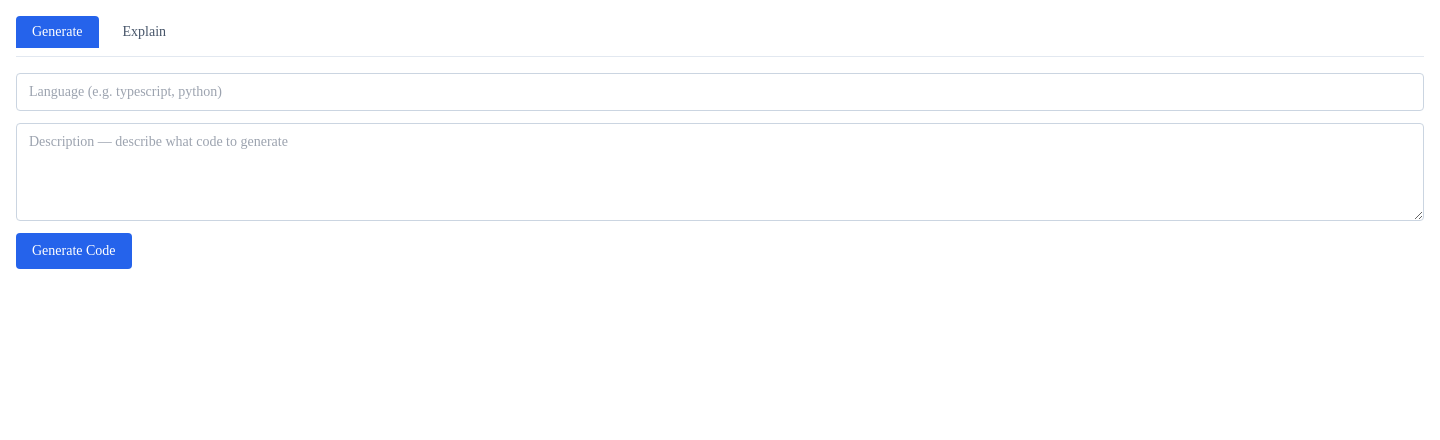
it: CodeAssistant explain flow › displays the explanation after submission
Click the button "Explain" at point(144, 32), box [106, 16, 182, 48]
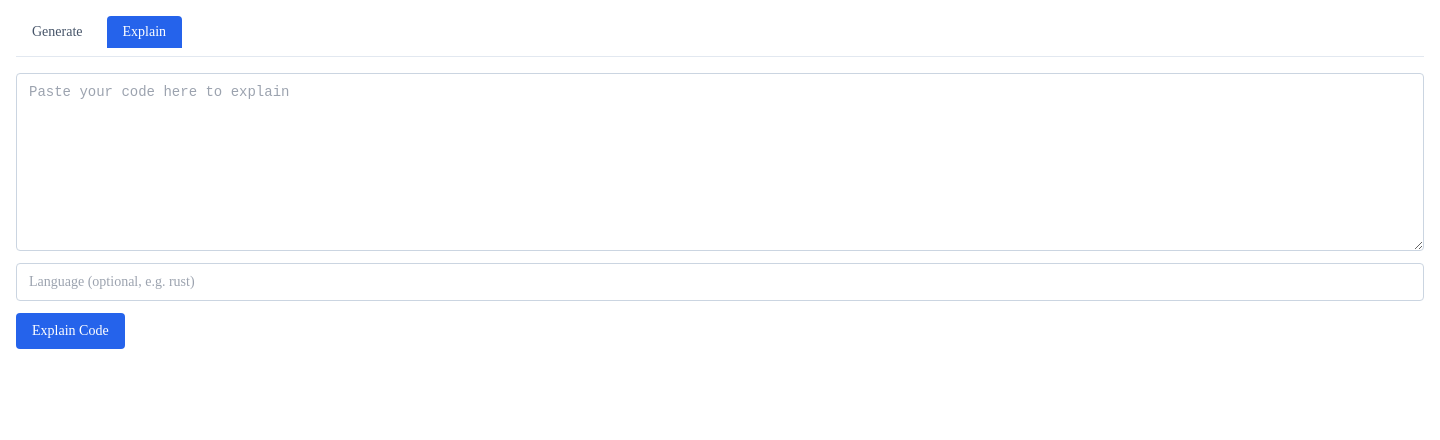
Type "const add = (a, b) => a + b;" into the text box with placeholder "Paste your code here to explain" at point(720, 162), box [16, 73, 1424, 251]
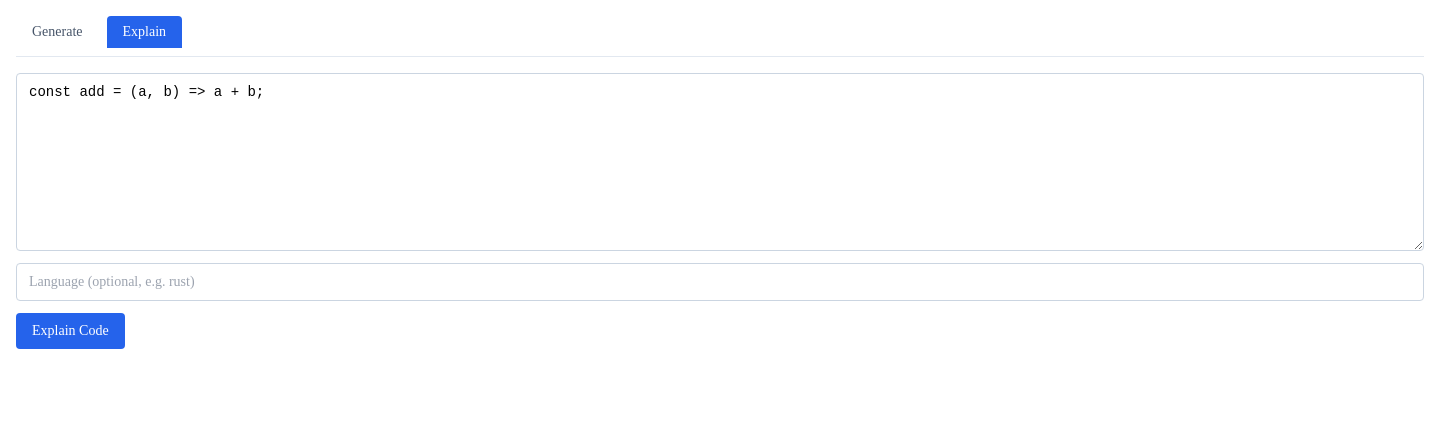
Click the button "Explain Code" at point(70, 331), box [16, 313, 125, 349]
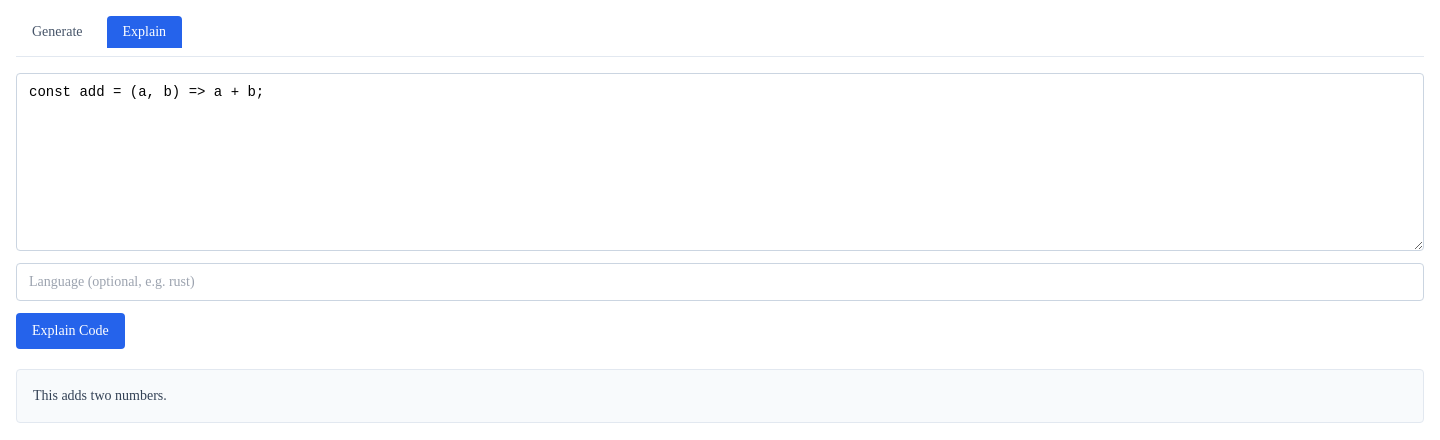
Check: the text "This adds two numbers." is shown, box [16, 369, 1424, 423]
